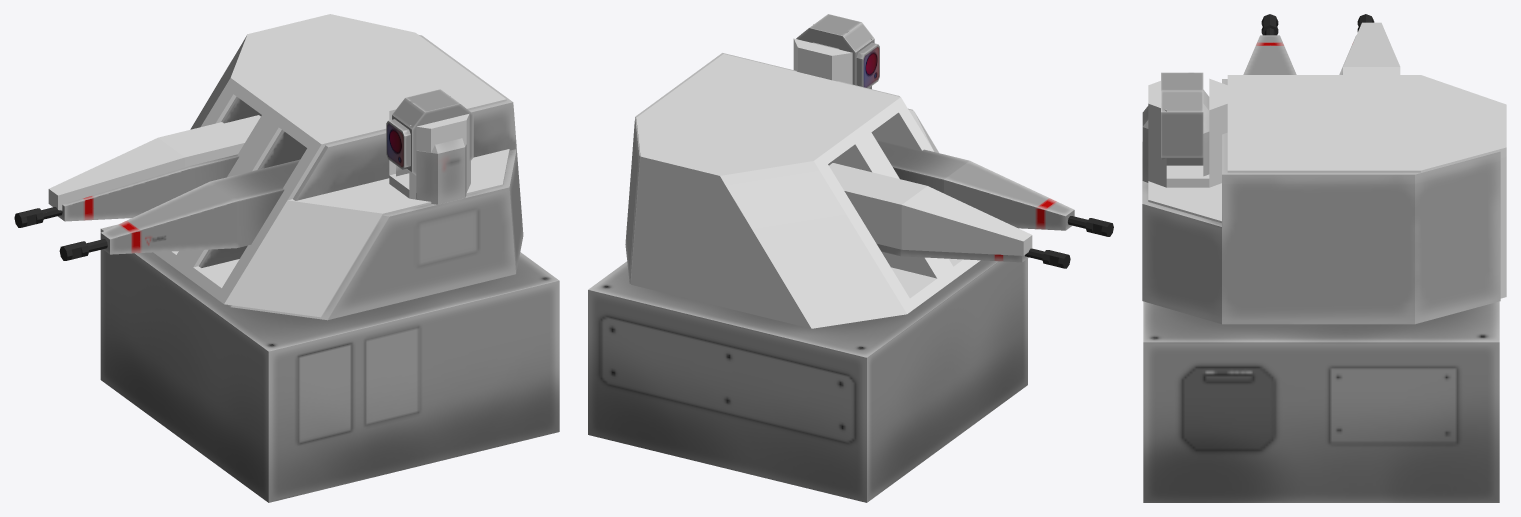
File: 40mm_auto canon.fbx
The picture shows the model from 3 angles, left to right: view 1: azimuth 30°, elevation 25°; view 2: azimuth 150°, elevation 25°; view 3: azimuth 270°, elevation 25°; orthographic projection. The views are drawn at different scales.
Visible parts, largest first — view 1: turet base.003, 40mm_turret.001, 40mm_turret, 40mm_gun, 40mm_canon.001, targetting_sensor, targeting_body, targeting_system.001, 40mm_barrel; view 2: turet base.003, 40mm_turret.001, 40mm_canon.001, 40mm_gun, targetting_sensor, targeting_system.001, 40mm_turret, 40mm_barrel; view 3: turet base.003, 40mm_turret, 40mm_turret.001, targeting_system.001, targetting_sensor, 40mm_canon.001, 40mm_gun, targeting_body, 40mm_barrel.
Boxes of the visible parts, x1,y1,x2,y2 form: turet base.003: [100, 224, 559, 502]; 40mm_turret.001: [153, 14, 509, 317]; 40mm_turret: [199, 35, 523, 320]; 40mm_gun: [58, 154, 299, 254]; 40mm_canon.001: [48, 115, 260, 210]; targetting_sensor: [386, 89, 473, 175]; targeting_body: [396, 138, 466, 204]; targeting_system.001: [389, 96, 470, 199]; 40mm_barrel: [14, 207, 107, 260]; turet base.003: [588, 258, 1027, 502]; 40mm_turret.001: [630, 54, 980, 328]; 40mm_canon.001: [829, 163, 1032, 255]; 40mm_gun: [876, 139, 1074, 262]; targetting_sensor: [796, 14, 879, 88]; targeting_system.001: [793, 24, 871, 88]; 40mm_turret: [625, 53, 912, 283]; 40mm_barrel: [1025, 216, 1113, 268]; turet base.003: [1143, 301, 1499, 502]; 40mm_turret: [1142, 79, 1500, 324]; 40mm_turret.001: [1148, 75, 1506, 298]; targeting_system.001: [1148, 78, 1227, 187]; targetting_sensor: [1161, 72, 1203, 165]; 40mm_canon.001: [1343, 22, 1400, 74]; 40mm_gun: [1243, 35, 1356, 74]; targeting_body: [1142, 89, 1209, 182]; 40mm_barrel: [1261, 14, 1374, 35].
Bounding box in the file's own units: 269 × 202 × 183.
Materials: 1 (1 with a texture image).
